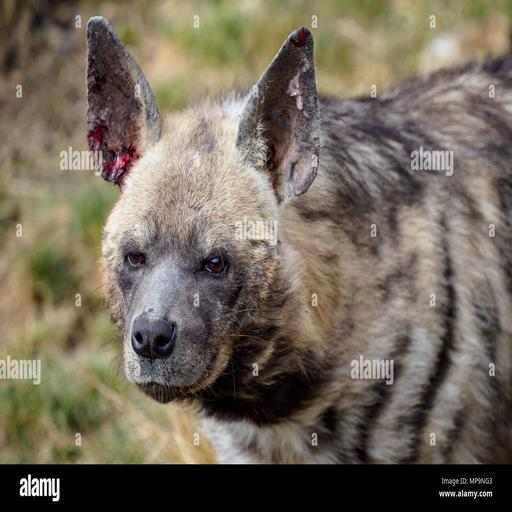Hyena: (89, 13, 512, 512)
